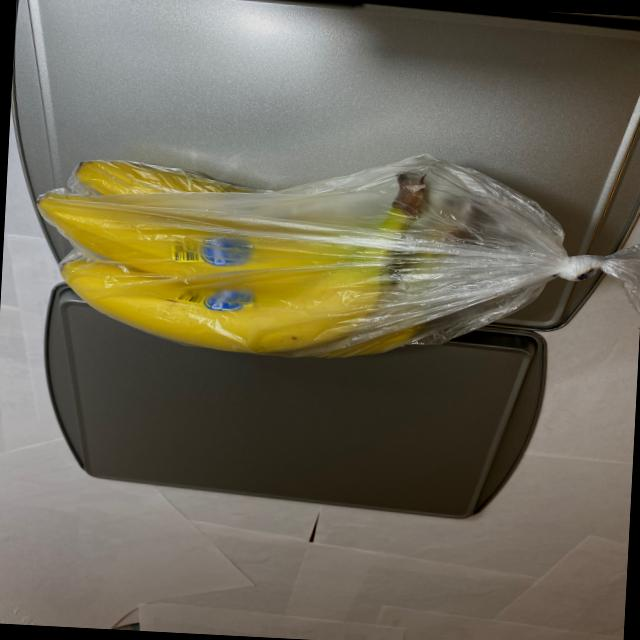banana: (25, 126, 508, 372)
